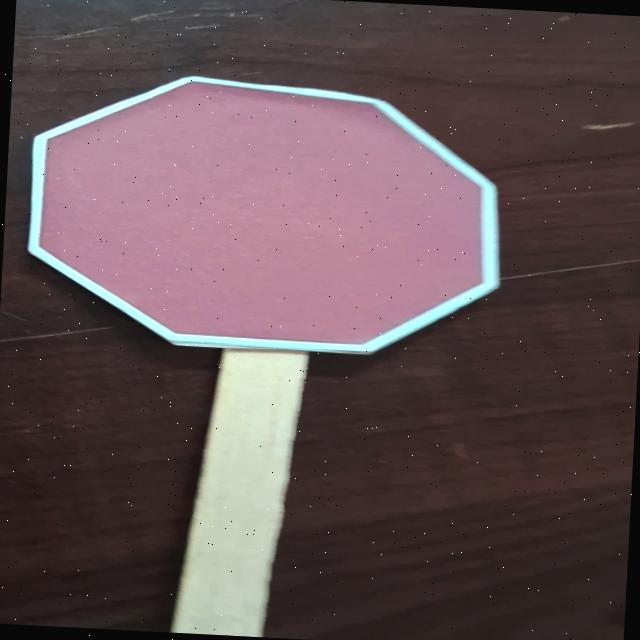Stop: (13, 57, 522, 369)
